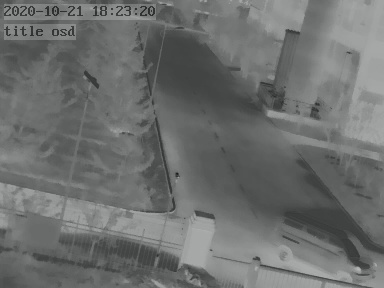vehicle: (274, 208, 378, 284)
